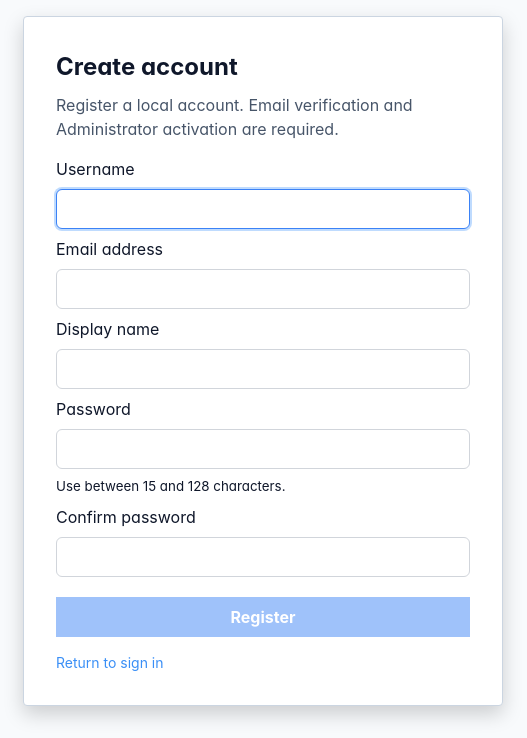
Test: RegistrationPage › submits normalized local-account data and explains the activation steps
Step 1. Type "  alice  " into the field labelled "Username" → (263, 209), box [56,189,470,229]
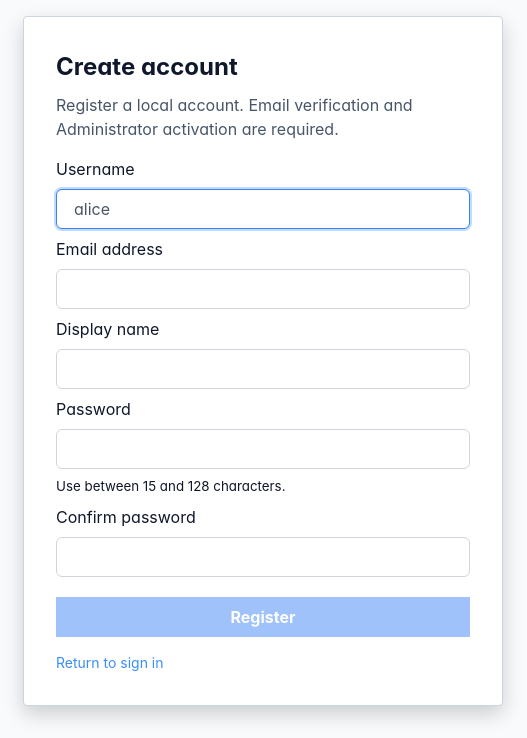
Step 2. Type "  ALICE@Example.org  " into the field labelled "Email address" → (263, 289), box [56,269,470,309]
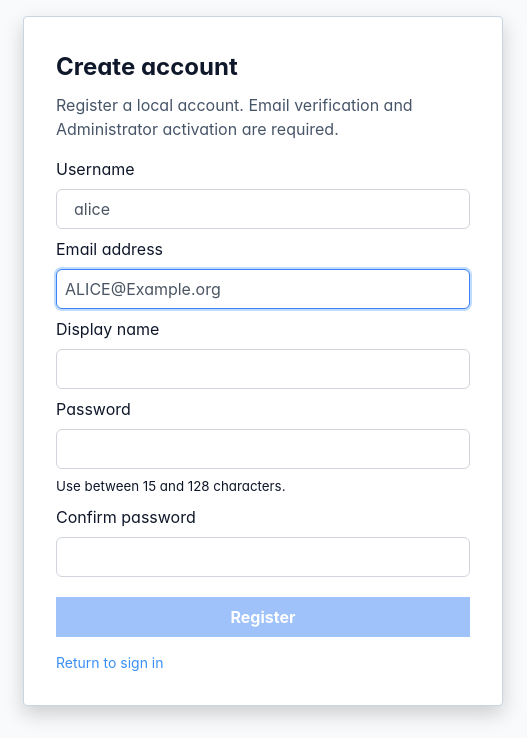
Step 3. Type "  Alice Example  " into the field labelled "Display name" → (263, 369), box [56,349,470,389]
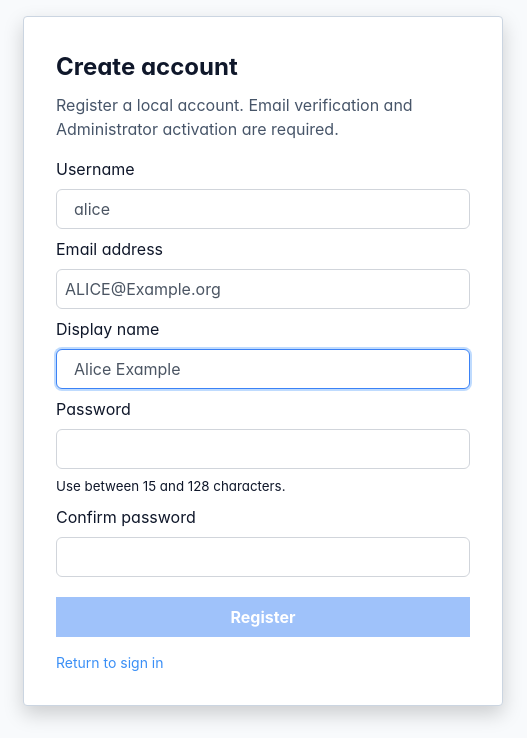
Step 4. Type "correct horse battery staple" into the password field labelled "Password" → (263, 449), box [56,429,470,469]
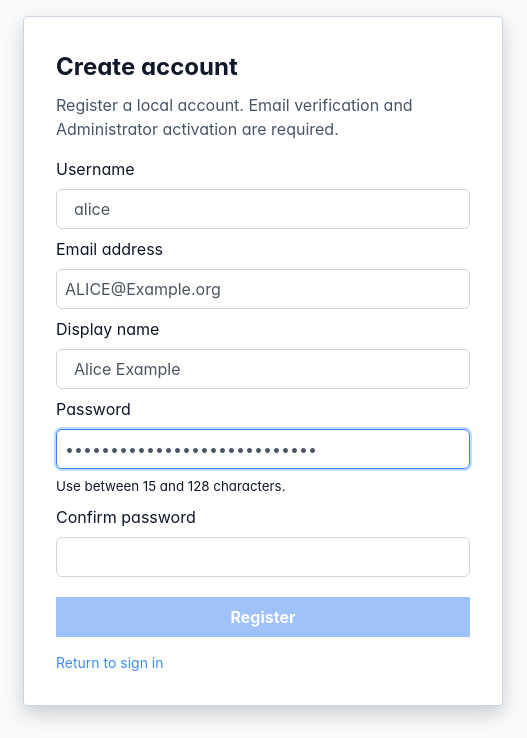
Step 5. Type "correct horse battery staple" into the password field labelled "Confirm password" → (263, 557), box [56,537,470,577]
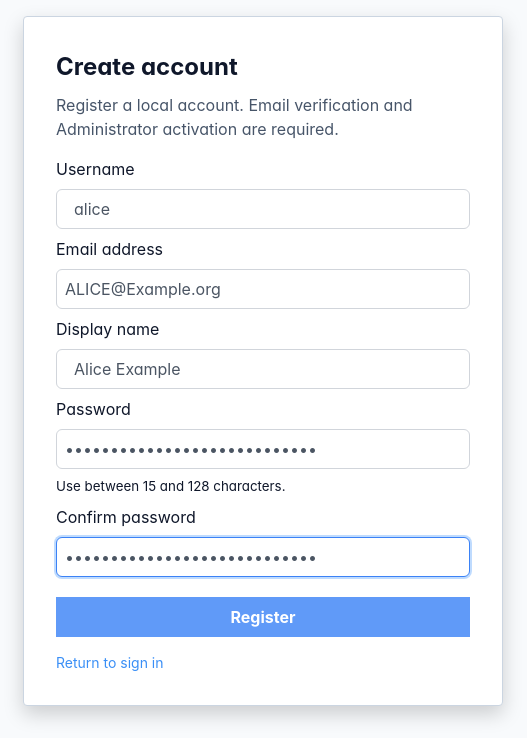
Step 6. Click the button "Register" → (263, 617), box [56,597,470,637]
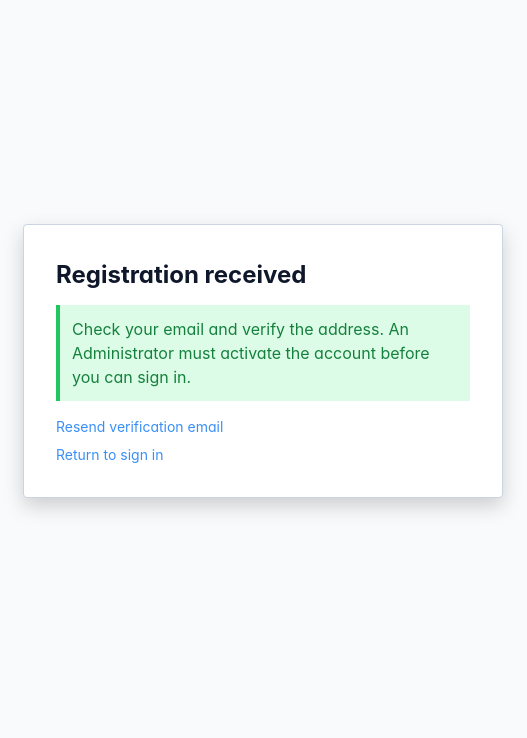
Expected: the heading "Registration received" is shown, [56,260,306,289]
Expected: the message shows "verify the address", [72,319,430,387]
Expected: the message shows "Administrator must activate", [72,319,430,387]
